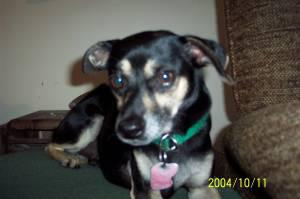dog-miniature_pinscher: (81, 28, 227, 144)
